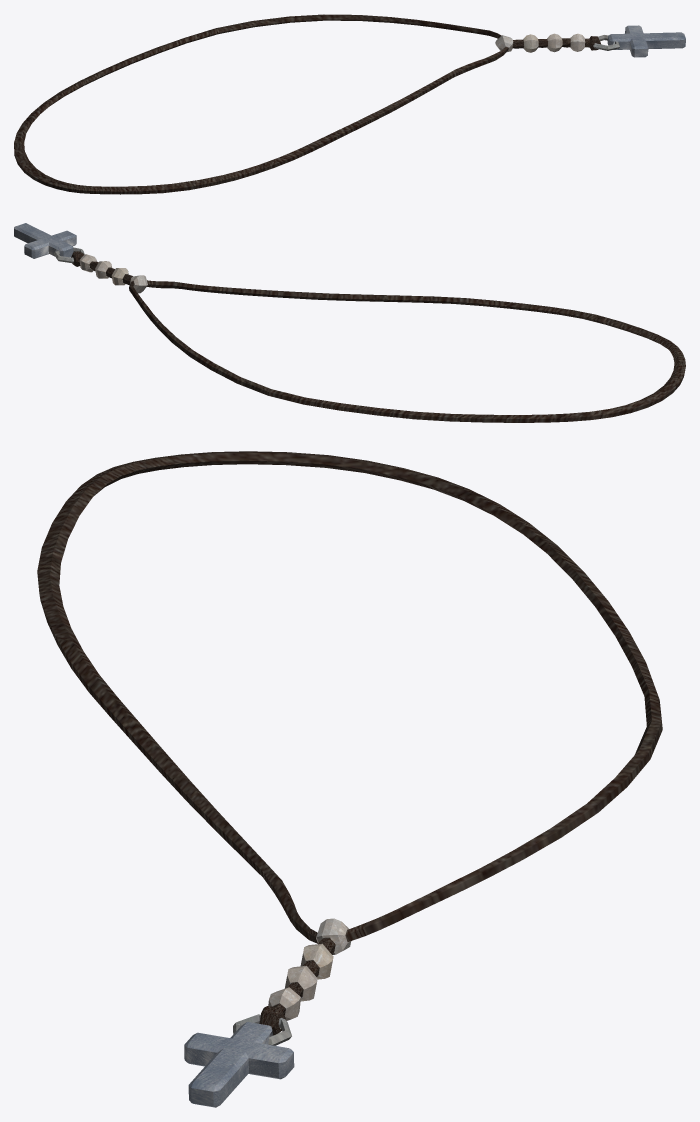
File: Cross_Pickup.fbx
3 renders of one model, top to bottom at view 1: azimuth 30°, elevation 25°; view 2: azimuth 150°, elevation 25°; view 3: azimuth 270°, elevation 25°, orthographic. The views are drawn at different scales.
Visible parts, largest first — view 1: pTorus4; view 2: pTorus4; view 3: pTorus4.
Boxes of the visible parts, <box> form: pTorus4: <box>14,14,685,194</box>; pTorus4: <box>14,223,685,422</box>; pTorus4: <box>37,451,662,1107</box>.
Bounding box in the file's own units: 37.52 × 1.34 × 15.84.
